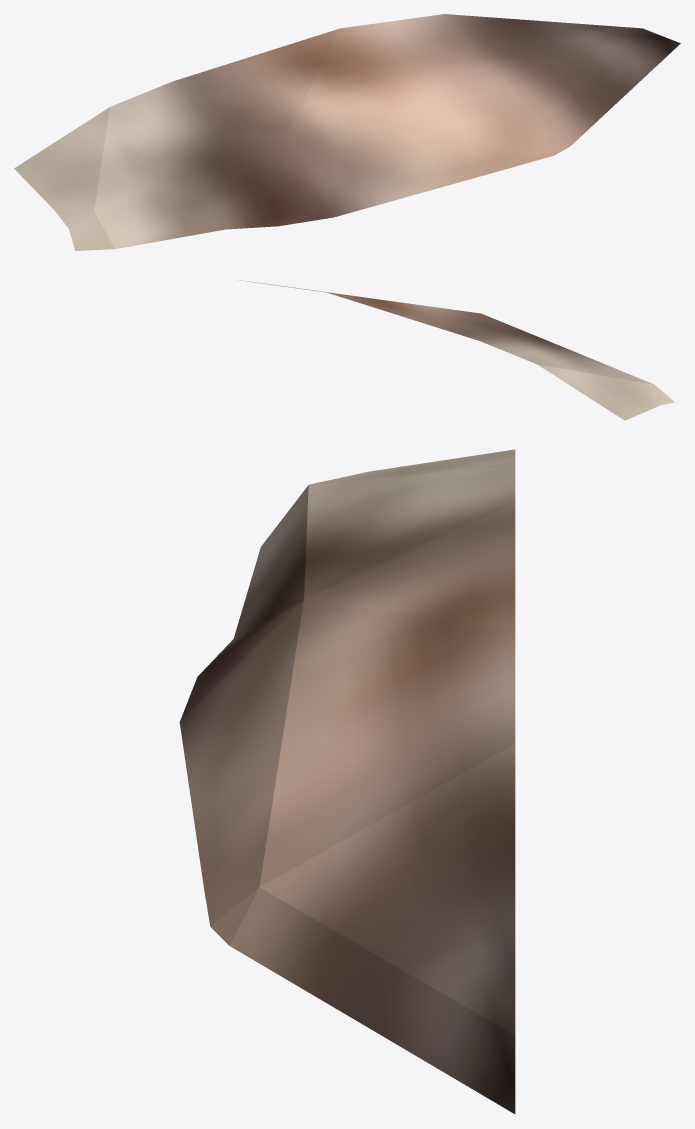
The picture shows the model from 3 angles, top to bottom: view 1: azimuth 30°, elevation 25°; view 2: azimuth 150°, elevation 25°; view 3: azimuth 270°, elevation 25°; orthographic projection. The views are drawn at different scales.
Bounding box in the file's own units: 0.3154 × 0.0443 × 0.075.
Materials: 1 (1 with a texture image).
